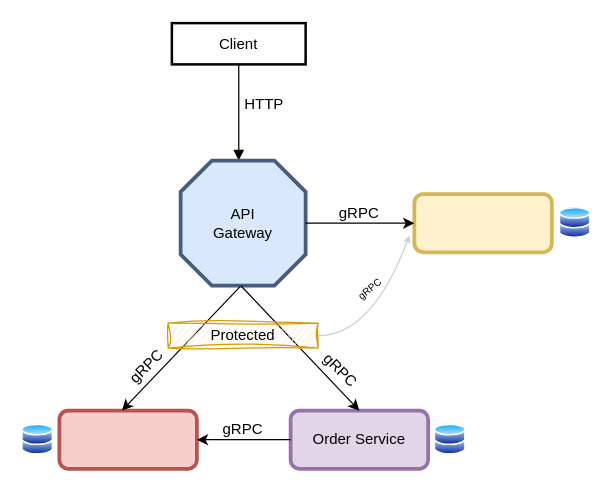
This 613x491 diagram has some shape labels left out. Here are the shapes that lost their labels. From the top down, the centre of each, then its label:
At point (482, 223): "Authentication Service".
At point (127, 439): "Product Service".
